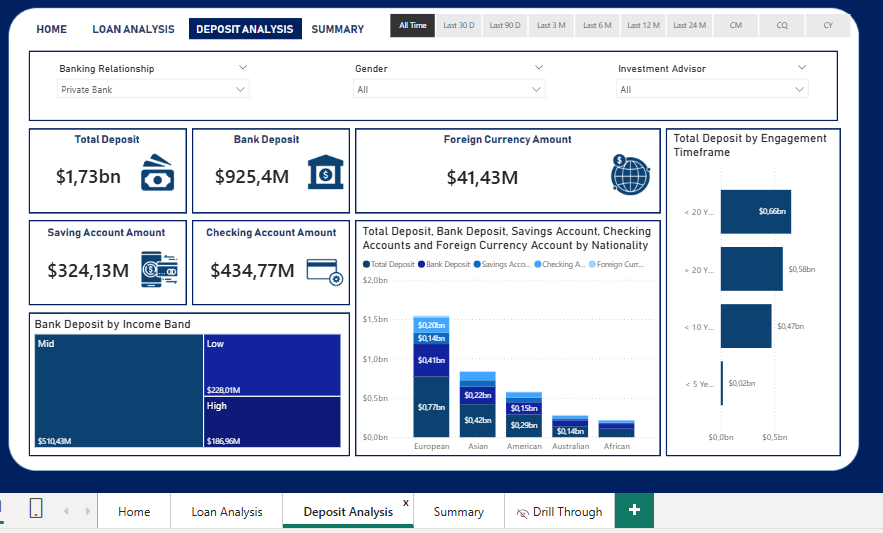

The dashboard page shown, as its layout file describes it:
{"tool":"powerbi","page":{"name":"Deposit Analysis","canvas":[1280,720],"ordinal":3},"visuals":[{"type":"slicer","fields":{"Values":["banking_case customer.Year of Joining"]},"box":[733.3,32.2,504.1,34.9],"z":0},{"type":"actionButton","box":[36.4,31.7,99.7,39.6],"z":1000},{"type":"actionButton","box":[348.2,31.7,221.6,39.6],"z":2000},{"type":"actionButton","box":[587.1,31.7,123.4,39.6],"z":3000},{"type":"card","fields":{"Values":["banking_case customer.Total Deposit"]},"box":[100.9,243.7,179.5,65.5],"z":4000},{"type":"card","fields":{"Values":["Sum(banking_case customer.Bank Deposits)"]},"box":[369.5,243.7,179.5,65.5],"z":5000},{"type":"card","fields":{"Values":["Sum(banking_case customer.Saving Accounts)"]},"box":[100.9,360.4,179.5,65.5],"z":6000},{"type":"card","fields":{"Values":["Sum(banking_case customer.Checking Accounts)"]},"box":[370.8,360.4,179.5,65.5],"z":7000},{"type":"donutChart","fields":{"Category":["banking_case customer.Income Band"],"Y":["Sum(banking_case customer.Bank Deposits)"]},"box":[66.8,488.8,530.7,176.9],"z":8000},{"type":"clusteredColumnChart","fields":{"Category":["banking_case customer.BRId"],"Y":["Sum(banking_case customer.Bank Deposits)"]},"box":[613.3,243.7,293.5,182.1],"z":9000},{"type":"clusteredColumnChart","fields":{"Category":["banking_case customer.Nationality"],"Y":["Sum(banking_case customer.Bank Deposits)"]},"box":[613.3,488.8,293.5,182.1],"z":10000},{"type":"slicer","fields":{"Values":["banking_case customer.BRId"]},"box":[66.8,123.2,428.5,57.7],"z":11000},{"type":"slicer","fields":{"Values":["banking_case customer.GenderId"]},"box":[512.4,123.2,302.7,57.7],"z":12000},{"type":"slicer","fields":{"Values":["banking_case customer.IAId"]},"box":[843.9,123.2,364.3,57.7],"z":13000},{"type":"clusteredColumnChart","fields":{"Category":["banking_case customer.BRId"],"Y":["Sum(banking_case customer.Bank Deposits)"]},"box":[933.7,245.3,292.8,425.7],"z":14000},{"type":"actionButton","box":[136.3,27.5,196.6,40.6],"z":15000}]}

Visuals, with their boxes on the page's 1280x720 design canvas (x1, y1, x2, y2). These are canvas units, not pixel positions in the 883x533 screenshot, which may show the page scaled, cropped or inside an application window:
slicer - banking_case customer.Year of Joining: bbox=[733, 32, 1237, 67]
actionButton: bbox=[36, 32, 136, 71]
actionButton: bbox=[348, 32, 570, 71]
actionButton: bbox=[587, 32, 710, 71]
card - banking_case customer.Total Deposit: bbox=[101, 244, 280, 309]
card - Sum(banking_case customer.Bank Deposits): bbox=[370, 244, 549, 309]
card - Sum(banking_case customer.Saving Accounts): bbox=[101, 360, 280, 426]
card - Sum(banking_case customer.Checking Accounts): bbox=[371, 360, 550, 426]
donutChart - banking_case customer.Income Band x Sum(banking_case customer.Bank Deposits): bbox=[67, 489, 598, 666]
clusteredColumnChart - banking_case customer.BRId x Sum(banking_case customer.Bank Deposits): bbox=[613, 244, 907, 426]
clusteredColumnChart - banking_case customer.Nationality x Sum(banking_case customer.Bank Deposits): bbox=[613, 489, 907, 671]
slicer - banking_case customer.BRId: bbox=[67, 123, 495, 181]
slicer - banking_case customer.GenderId: bbox=[512, 123, 815, 181]
slicer - banking_case customer.IAId: bbox=[844, 123, 1208, 181]
clusteredColumnChart - banking_case customer.BRId x Sum(banking_case customer.Bank Deposits): bbox=[934, 245, 1226, 671]
actionButton: bbox=[136, 28, 333, 68]
